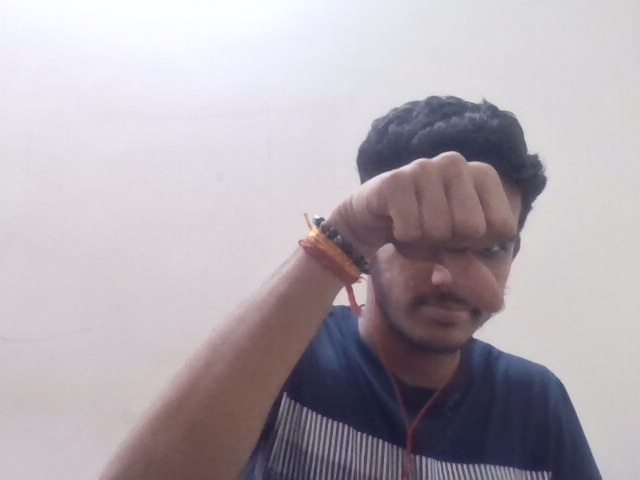yes: (338, 154, 553, 321)
